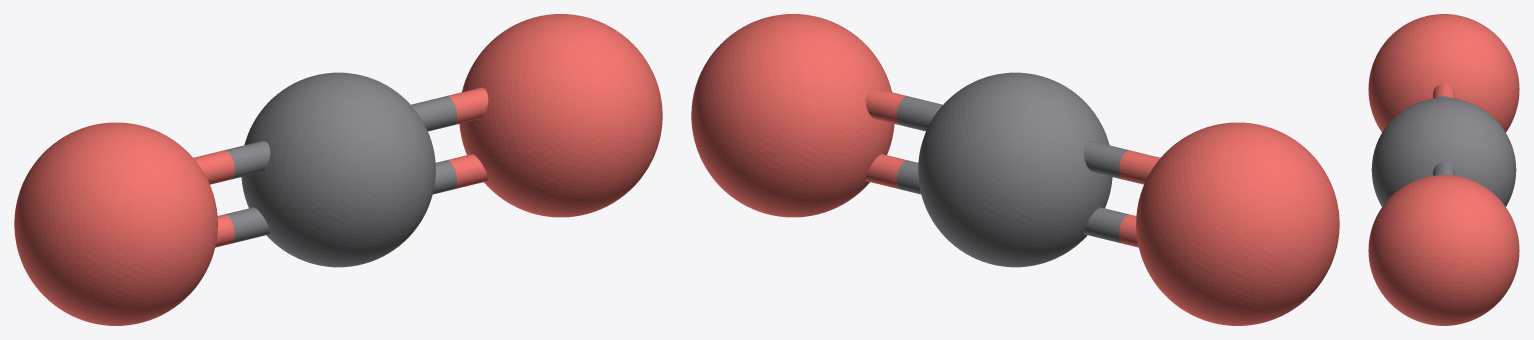
3 renders of one model, left to right at view 1: azimuth 30°, elevation 25°; view 2: azimuth 150°, elevation 25°; view 3: azimuth 270°, elevation 25°, orthographic. The views are drawn at different scales.
Visible parts, largest first — view 1: O2, O1, C1, bond1_1a, bond0_0a, bond1_0a, bond0_0b, bond1_1b, bond0_1b, bond0_1a, bond1_0b; view 2: O2, O1, C1, bond1_1a, bond0_0a, bond1_0a, bond0_0b, bond1_1b, bond0_1b, bond0_1a, bond1_0b; view 3: O1, O2, C1, bond1_1b, bond0_0a.
Part boxes in pixels (bbox=[...]): O2: bbox=[14, 122, 217, 325]; O1: bbox=[459, 14, 662, 217]; C1: bbox=[241, 72, 435, 267]; bond1_1a: bbox=[225, 141, 270, 179]; bond0_0a: bbox=[411, 96, 457, 131]; bond1_0a: bbox=[224, 207, 270, 243]; bond0_0b: bbox=[447, 87, 488, 124]; bond1_1b: bbox=[193, 150, 234, 184]; bond0_1b: bbox=[447, 154, 488, 189]; bond0_1a: bbox=[432, 160, 457, 194]; bond1_0b: bbox=[215, 214, 234, 247]; O2: bbox=[1136, 122, 1339, 325]; O1: bbox=[691, 14, 894, 217]; C1: bbox=[918, 72, 1112, 267]; bond1_1a: bbox=[1083, 141, 1128, 179]; bond0_0a: bbox=[896, 96, 942, 131]; bond1_0a: bbox=[1083, 207, 1129, 243]; bond0_0b: bbox=[865, 87, 906, 124]; bond1_1b: bbox=[1119, 150, 1160, 184]; bond0_1b: bbox=[865, 154, 906, 189]; bond0_1a: bbox=[896, 160, 921, 194]; bond1_0b: bbox=[1119, 214, 1138, 247]; O1: bbox=[1368, 175, 1519, 325]; O2: bbox=[1368, 14, 1519, 132]; C1: bbox=[1371, 97, 1516, 206]; bond1_1b: bbox=[1433, 83, 1454, 98]; bond0_0a: bbox=[1433, 162, 1454, 175].
Size of the model in its own units: 0.324 by 0.092 by 0.092.
